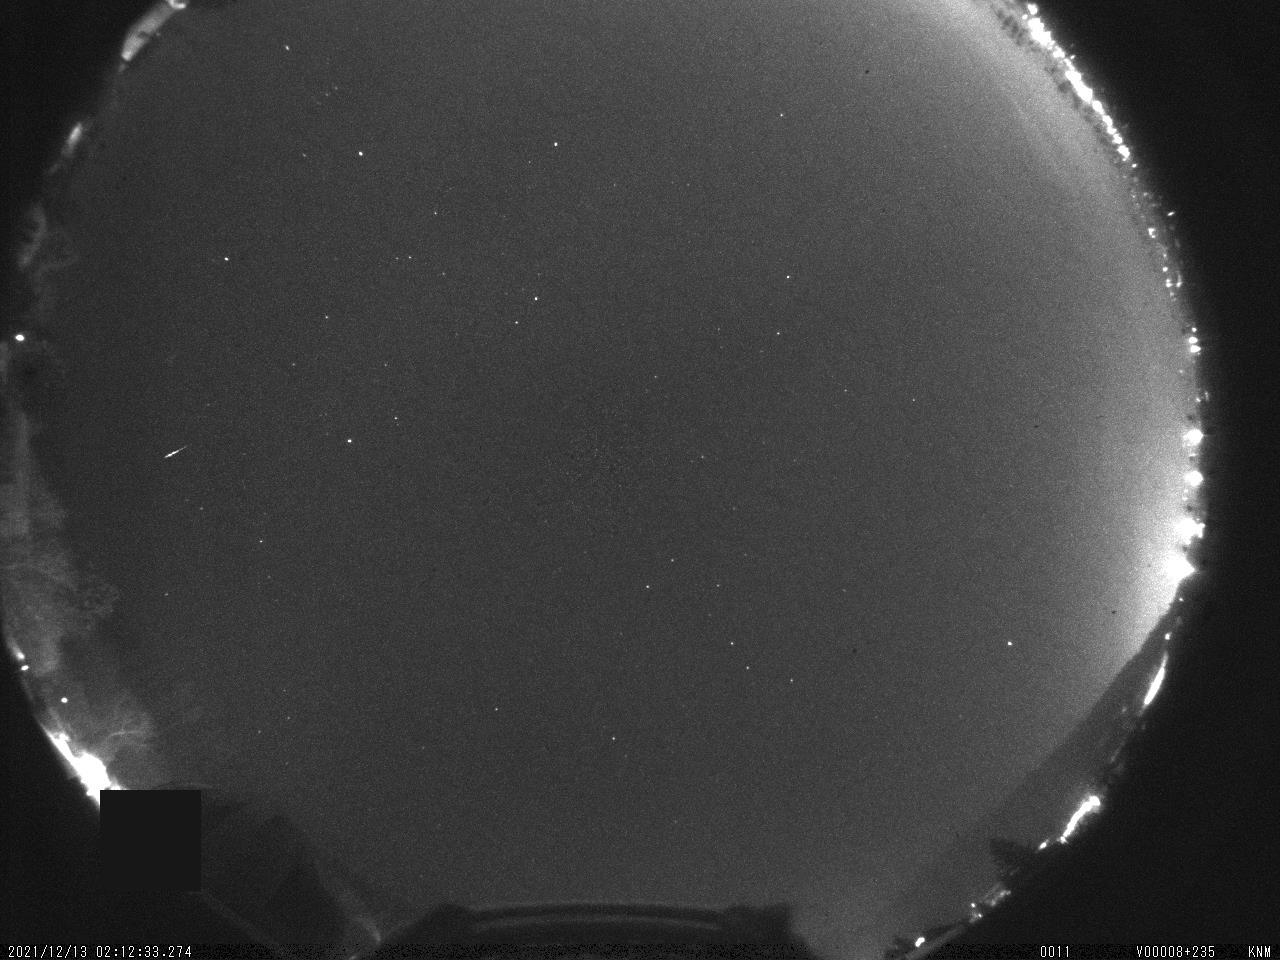meteor: (155, 436, 195, 466)
